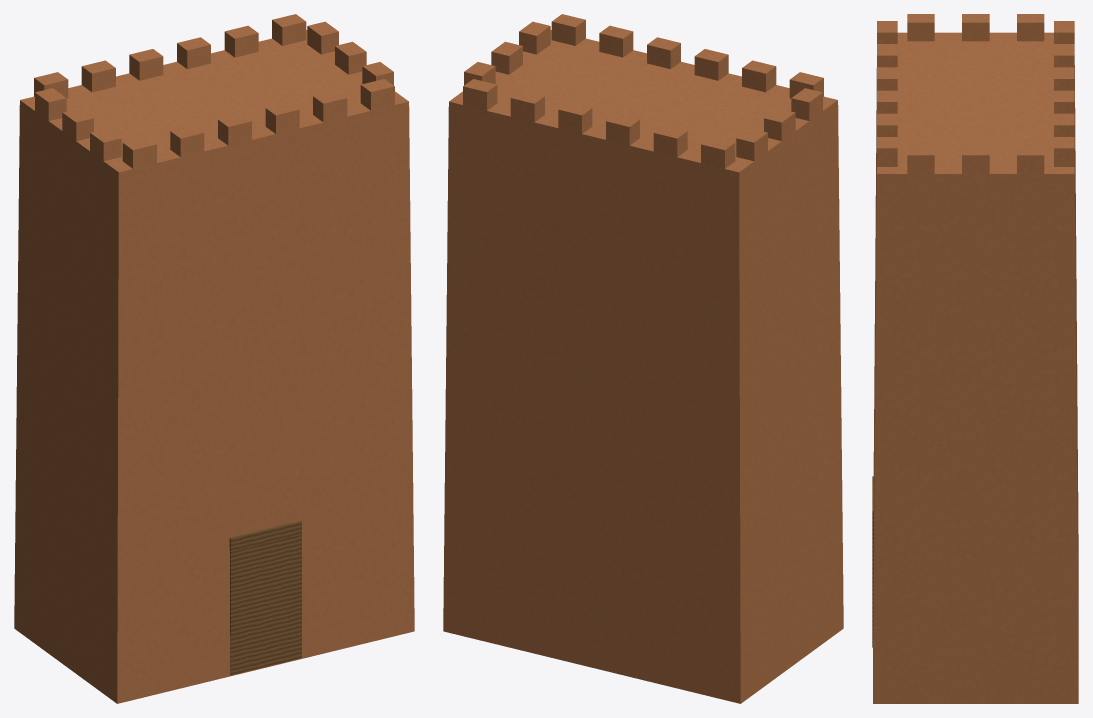
The model's file is SM_Souq_Warehouse_W5D30_Crenel.fbx.
3 renders of one model, left to right at view 1: azimuth 30°, elevation 25°; view 2: azimuth 150°, elevation 25°; view 3: azimuth 270°, elevation 25°, orthographic.
Parts seen in each view (by area): view 1: SM_Souq_Warehouse_W5D30_Crenel; view 2: SM_Souq_Warehouse_W5D30_Crenel; view 3: SM_Souq_Warehouse_W5D30_Crenel.
Boxes of the visible parts, x1=… form: SM_Souq_Warehouse_W5D30_Crenel: x1=14, y1=14, x2=414, y2=703; SM_Souq_Warehouse_W5D30_Crenel: x1=443, y1=14, x2=843, y2=703; SM_Souq_Warehouse_W5D30_Crenel: x1=872, y1=14, x2=1078, y2=703.
Bounding box in the file's own units: 5 × 8.8 × 3.01.
2 materials, 2 textured.
